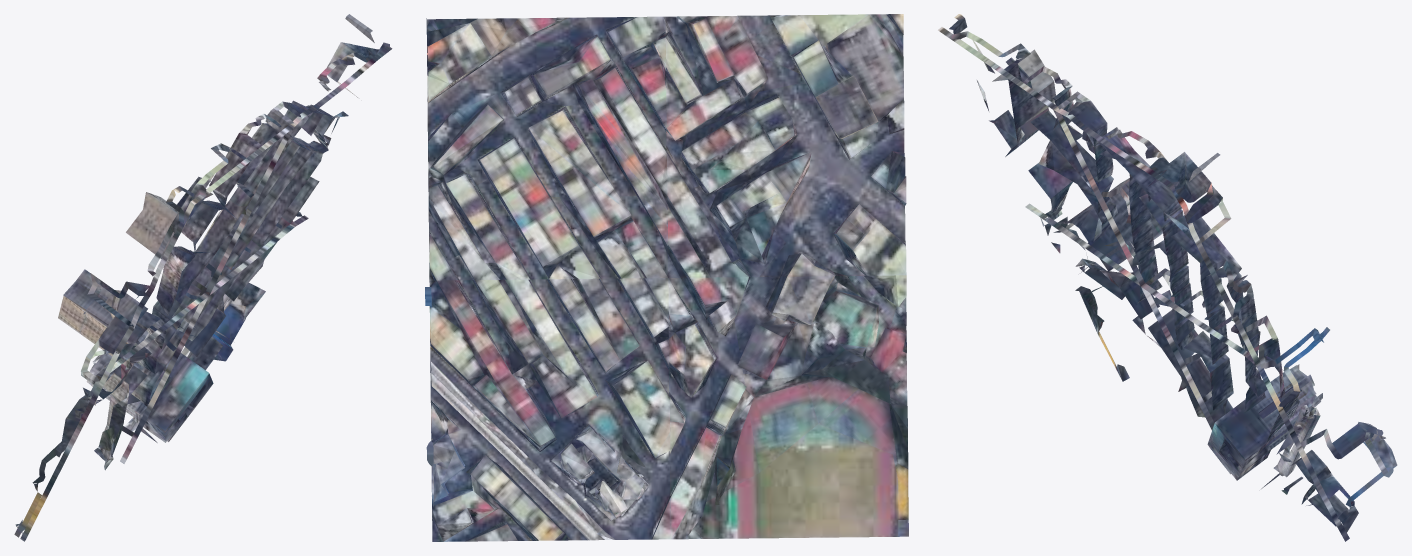
The picture shows the model from 3 angles, left to right: view 1: azimuth 30°, elevation 25°; view 2: azimuth 150°, elevation 25°; view 3: azimuth 270°, elevation 25°; orthographic projection. The views are drawn at different scales.
Bounding box in the file's own units: 308 × 294 × 288.
Materials: 1 (1 with a texture image).
